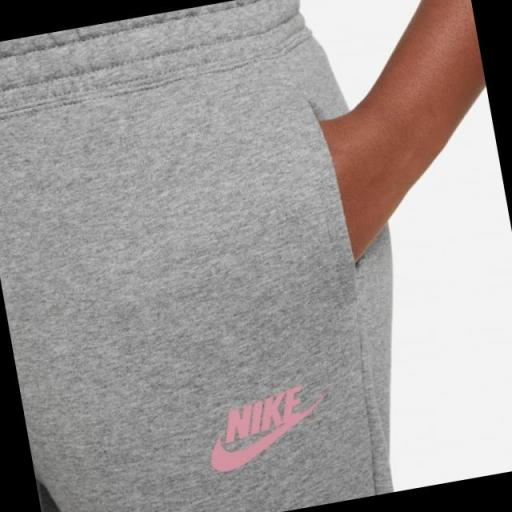Nike: (198, 408, 324, 476), (215, 383, 312, 444)
